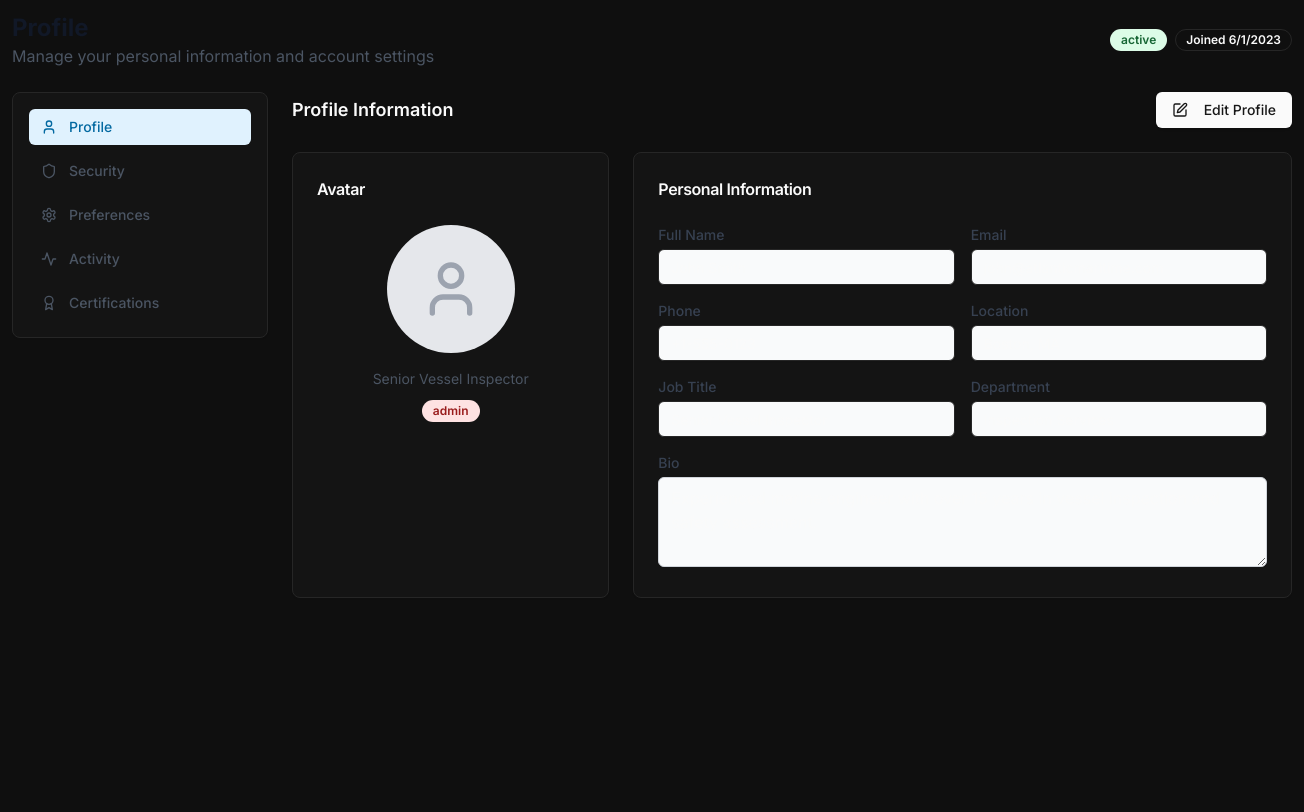
Test case: ProfilePage › Placeholder Tabs › should show placeholder content for Preferences tab
Click the button "Preferences": click(140, 215) [29,197,251,233]
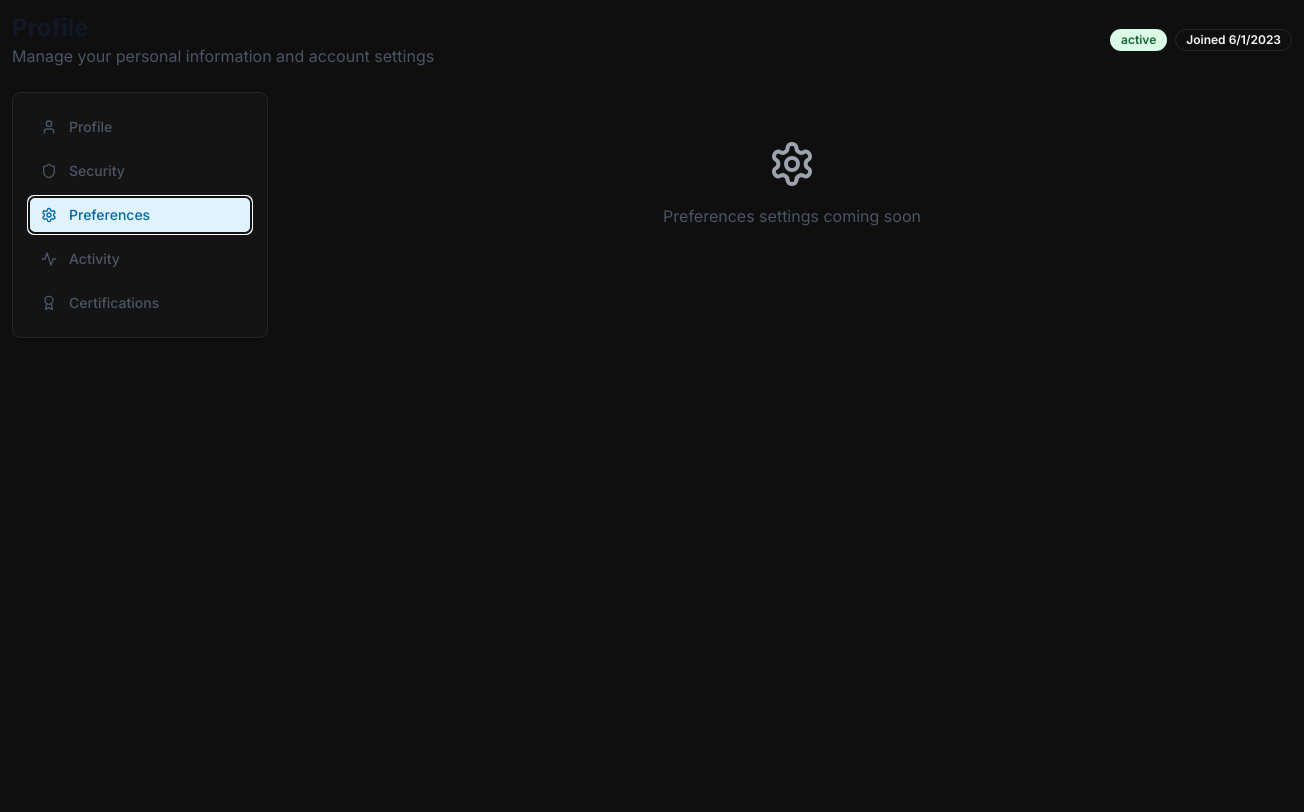
Result: the text "Preferences settings coming soon" is shown at [663,206,921,226]
